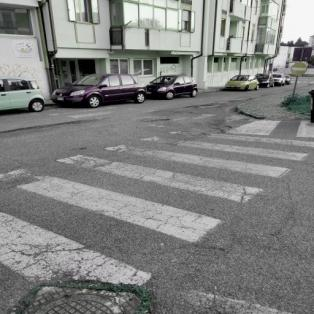Paso de Cebra: (47, 138, 296, 206)
